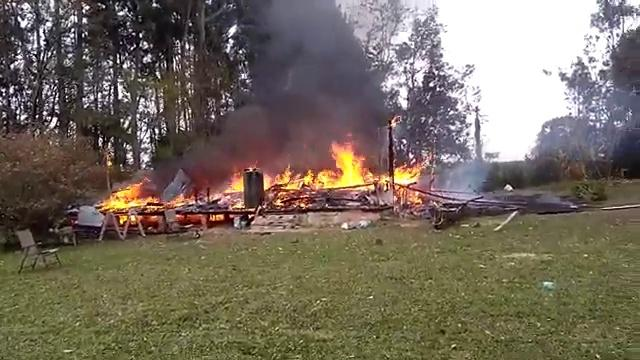fire: (332, 144, 362, 185), (110, 188, 152, 206)
smoke: (265, 8, 365, 137)
